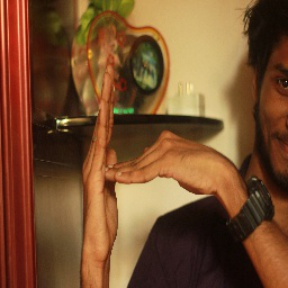Z: (74, 63, 230, 260)
